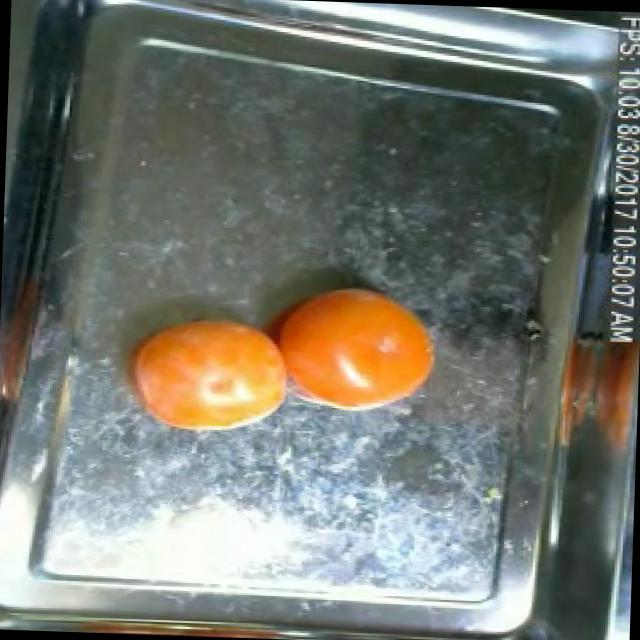Fruit: (104, 296, 310, 449), (247, 266, 453, 416), (536, 318, 640, 469)
